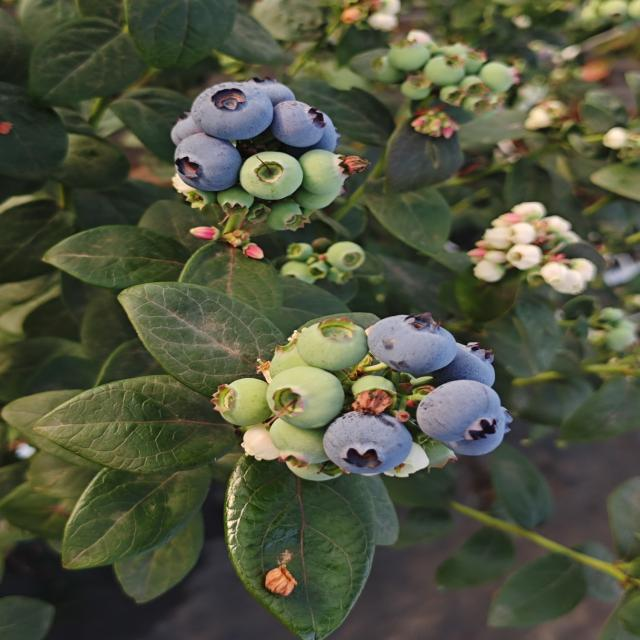ripe: (412, 379, 512, 458), (186, 74, 296, 142), (317, 407, 410, 478), (365, 310, 464, 376), (170, 130, 242, 192), (269, 98, 334, 149), (294, 95, 348, 155), (449, 345, 511, 391)
